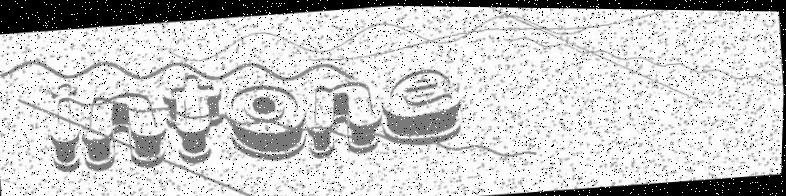e: (378, 62, 467, 148)
i: (44, 81, 86, 174)
n: (78, 86, 171, 174), (303, 78, 387, 158)
o: (223, 78, 313, 165)
t: (159, 69, 230, 165)
